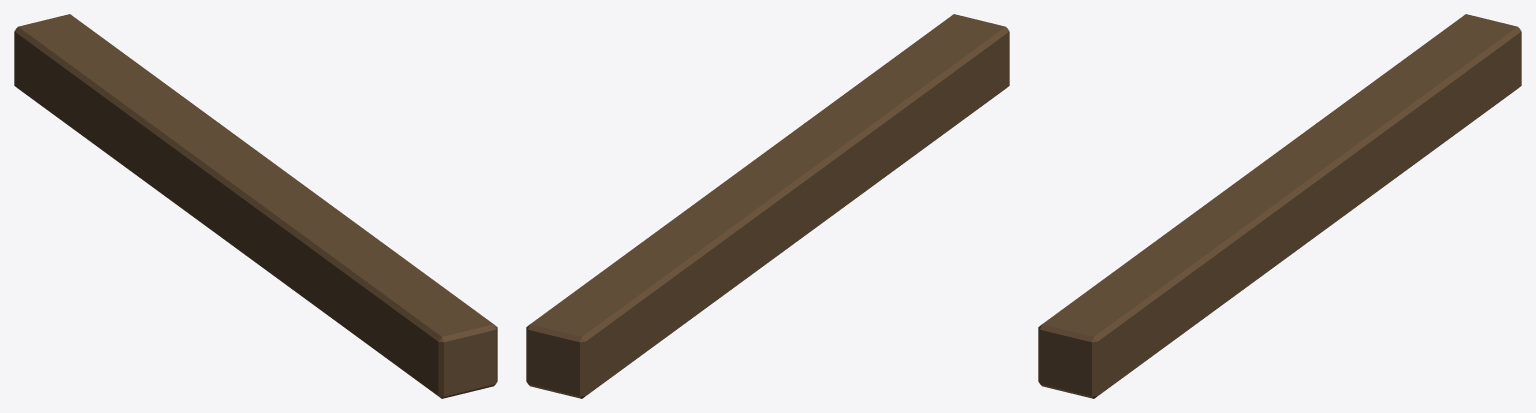
The model's file is SM_WL_HorizontalBeam2m.fbx.
3 renders of one model, left to right at view 1: azimuth 30°, elevation 25°; view 2: azimuth 150°, elevation 25°; view 3: azimuth 330°, elevation 25°, orthographic.
Visible parts, largest first — view 1: SM_WL_HorizontalBeam2m; view 2: SM_WL_HorizontalBeam2m; view 3: SM_WL_HorizontalBeam2m.
Part boxes in pixels (x1,y1,x2,y2): SM_WL_HorizontalBeam2m: (14, 14, 497, 398); SM_WL_HorizontalBeam2m: (526, 14, 1009, 398); SM_WL_HorizontalBeam2m: (1038, 14, 1521, 398).
Size of the model in its own units: 2 by 0.16 by 0.16.
